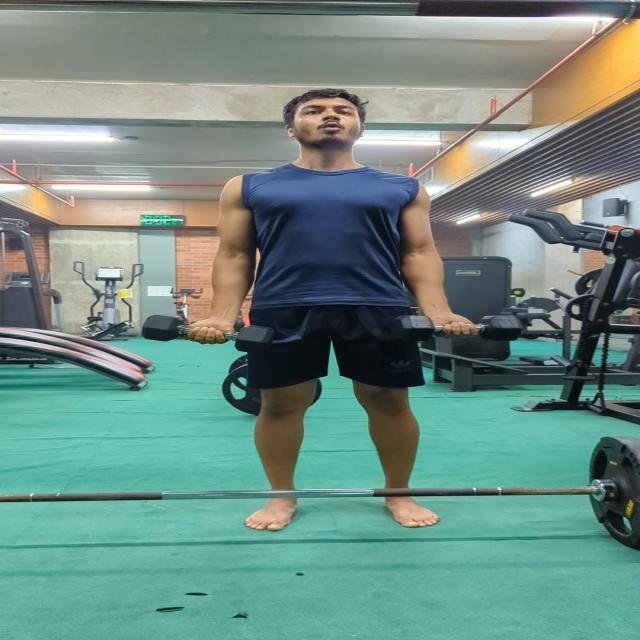Normal_DumbbellBicepCurls: (168, 82, 515, 533)
